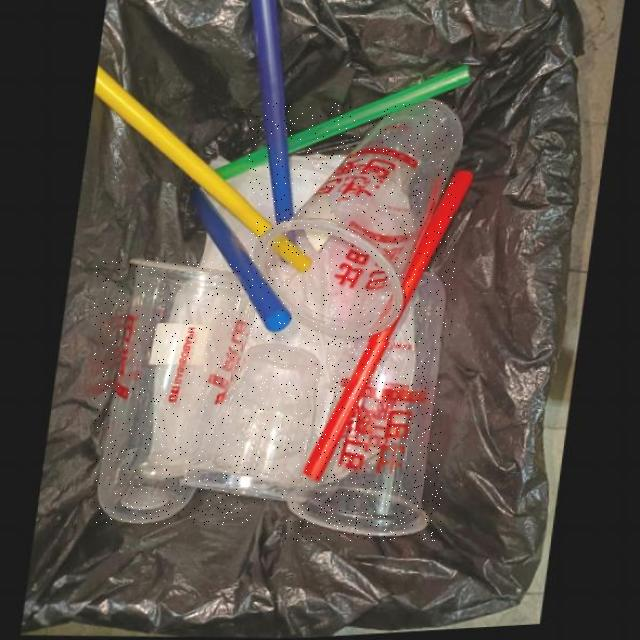plastic: (249, 103, 456, 342), (95, 260, 251, 525), (285, 278, 442, 541), (177, 347, 317, 506)
